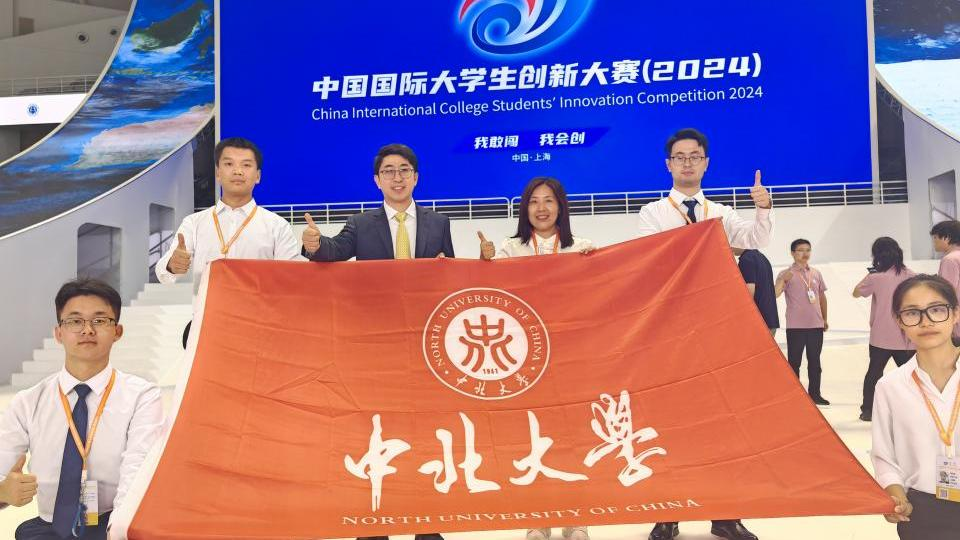persion: (54, 300, 129, 365), (890, 287, 960, 348), (213, 146, 264, 199), (372, 157, 425, 205), (665, 143, 713, 187), (528, 183, 562, 231), (928, 225, 953, 256), (791, 241, 816, 265)
